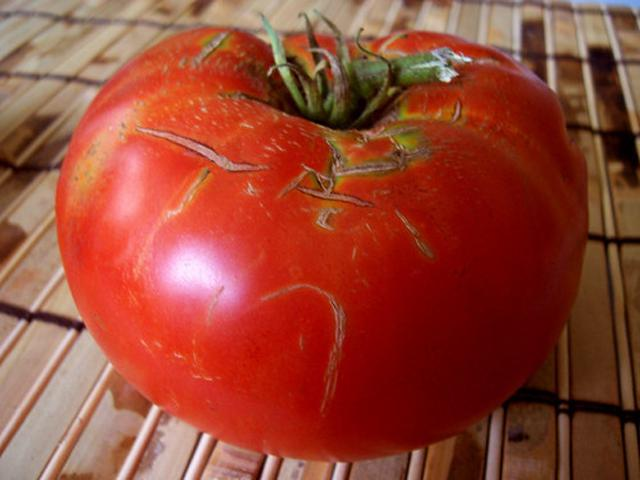tomato: (56, 26, 588, 454)
